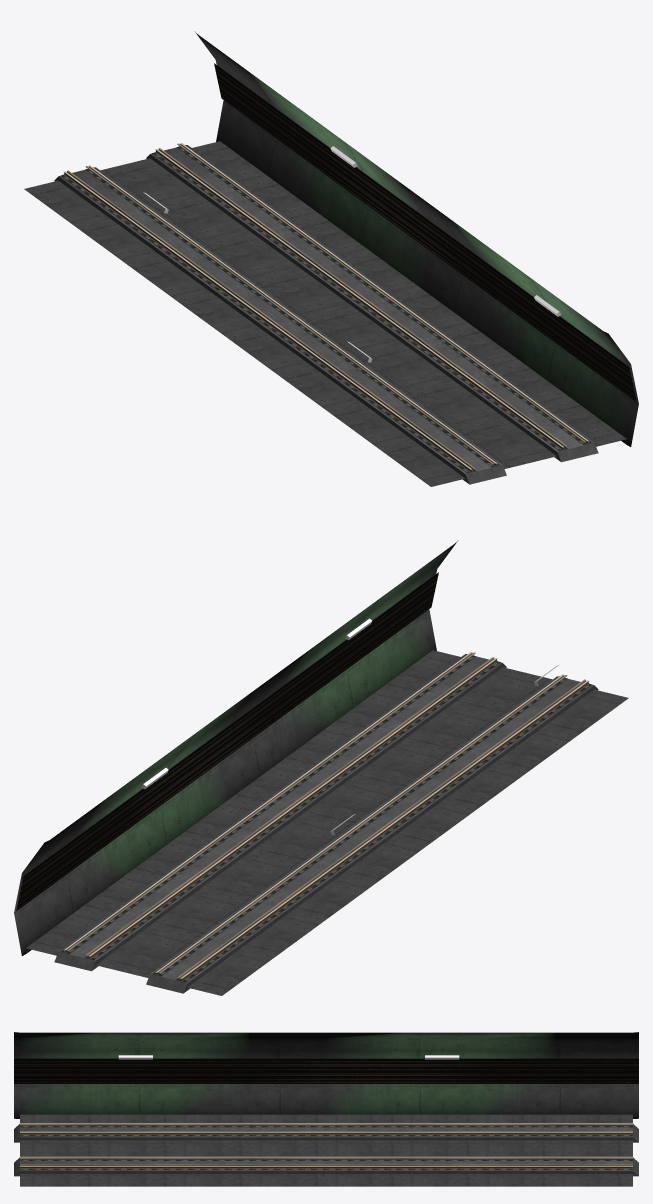
File: SIN_2RAIL_TONNNEL.glb
3 renders of one model, top to bottom at view 1: azimuth 30°, elevation 25°; view 2: azimuth 150°, elevation 25°; view 3: azimuth 270°, elevation 25°, orthographic. The views are drawn at different scales.
Parts seen in each view (by area): view 1: OBJ, R000_RG_R, R000_RG_L; view 2: OBJ, R000_RG_R, R000_RG_L; view 3: OBJ, R000_RG_R, R000_RG_L.
Part boxes in pixels (x1,y1,x2,y2): OBJ: [24, 31, 638, 486]; R000_RG_R: [67, 148, 566, 470]; R000_RG_L: [85, 143, 585, 464]; OBJ: [14, 540, 628, 995]; R000_RG_R: [85, 657, 585, 979]; R000_RG_L: [67, 652, 567, 974]; OBJ: [14, 1032, 638, 1186]; R000_RG_R: [20, 1124, 632, 1159]; R000_RG_L: [20, 1131, 632, 1165].
Bounding box in the file's own units: 29.72 × 20.51 × 102.
11 materials, 10 textured.
